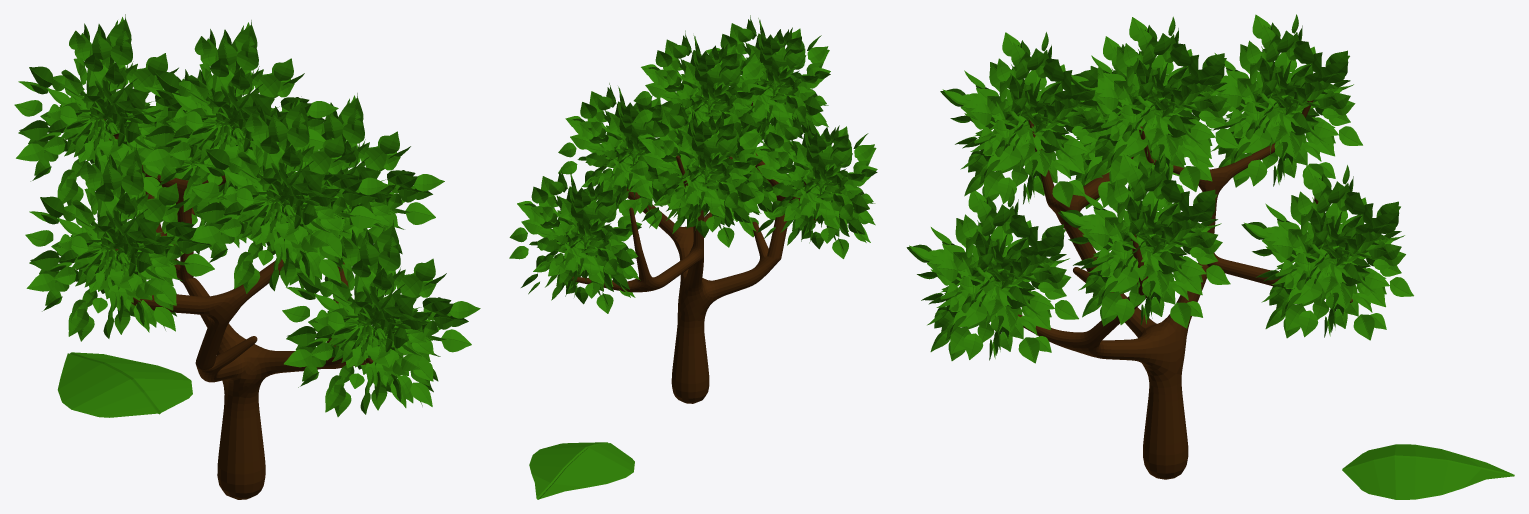
The model's file is treeefbx.fbx.
3 views of the same model, side by side, from view 1: azimuth 30°, elevation 25°; view 2: azimuth 150°, elevation 25°; view 3: azimuth 270°, elevation 25° (orthographic). The views are drawn at different scales.
Parts seen in each view (by area): view 1: Plane, Plane.002; view 2: Plane, Plane.002; view 3: Plane, Plane.002.
Boxes of the visible parts, x1=… form: Plane: x1=14, y1=14, x2=480, y2=499; Plane.002: x1=57, y1=352, x2=192, y2=417; Plane: x1=509, y1=15, x2=877, y2=403; Plane.002: x1=529, y1=442, x2=634, y2=499; Plane: x1=906, y1=14, x2=1413, y2=479; Plane.002: x1=1342, y1=444, x2=1514, y2=499.
Size of the model in its own units: 576 by 659 by 811.
2 materials, 1 textured.
